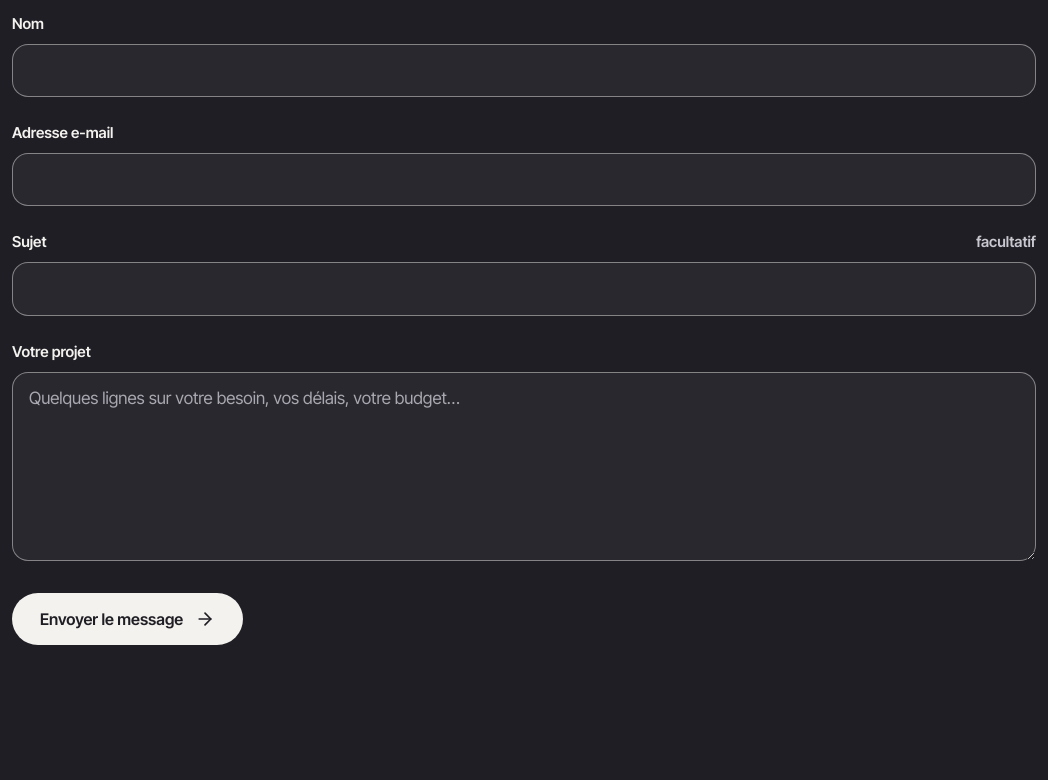
Test case: ContactForm › signale un échec d’envoi avec une solution de repli
The width and height of the screenshot is (1048, 780).
Type "Awa" into the field labelled "Nom" at (524, 71), box [12,44,1036,97]
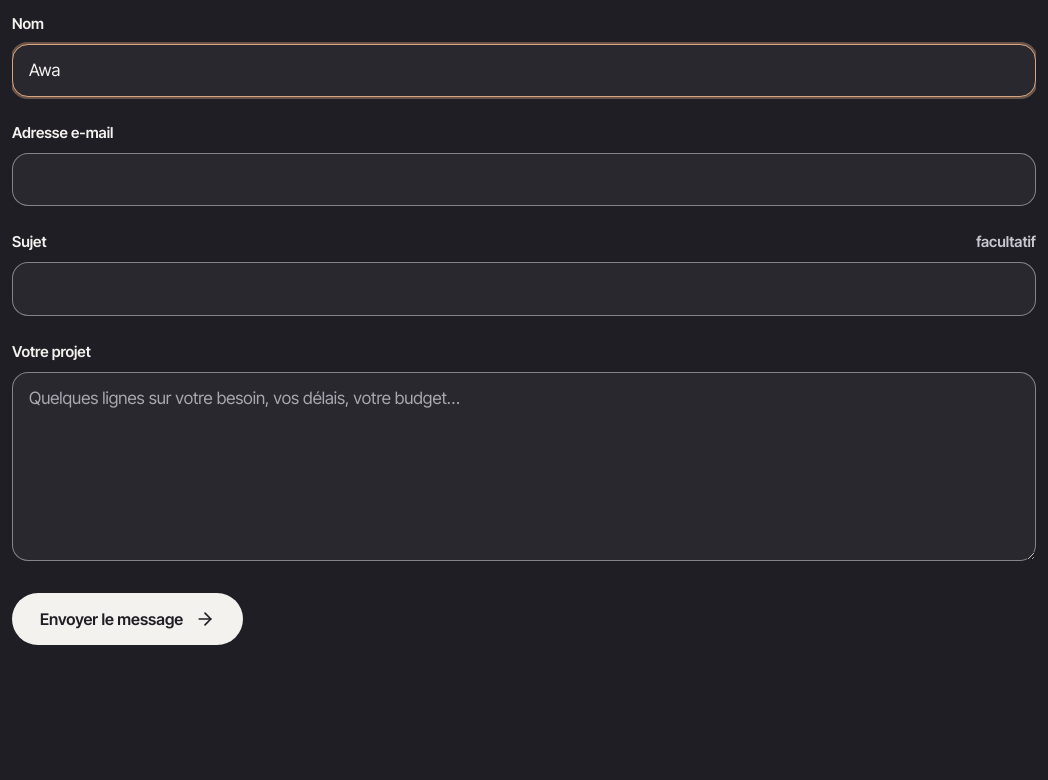
Type "awa@exemple.bj" into the field labelled "Adresse e-mail" at (524, 180), box [12,153,1036,206]
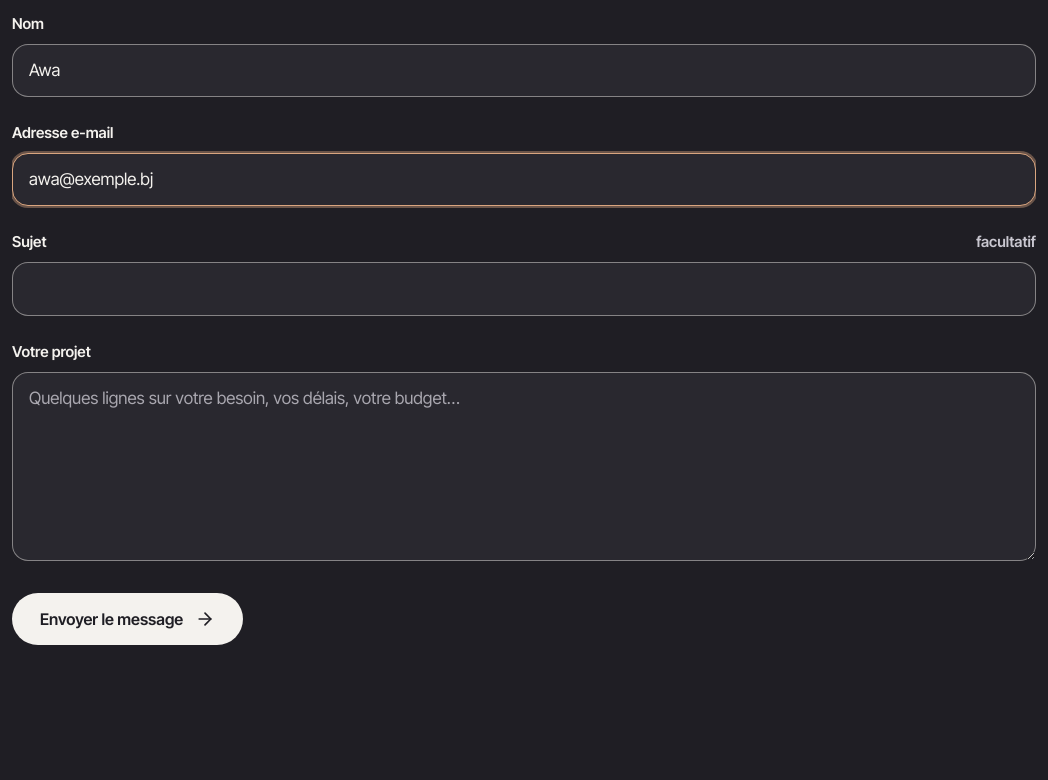
Type "Je souhaite créer un site vitrine." into the text box labelled "Votre projet" at (524, 466), box [12,372,1036,561]
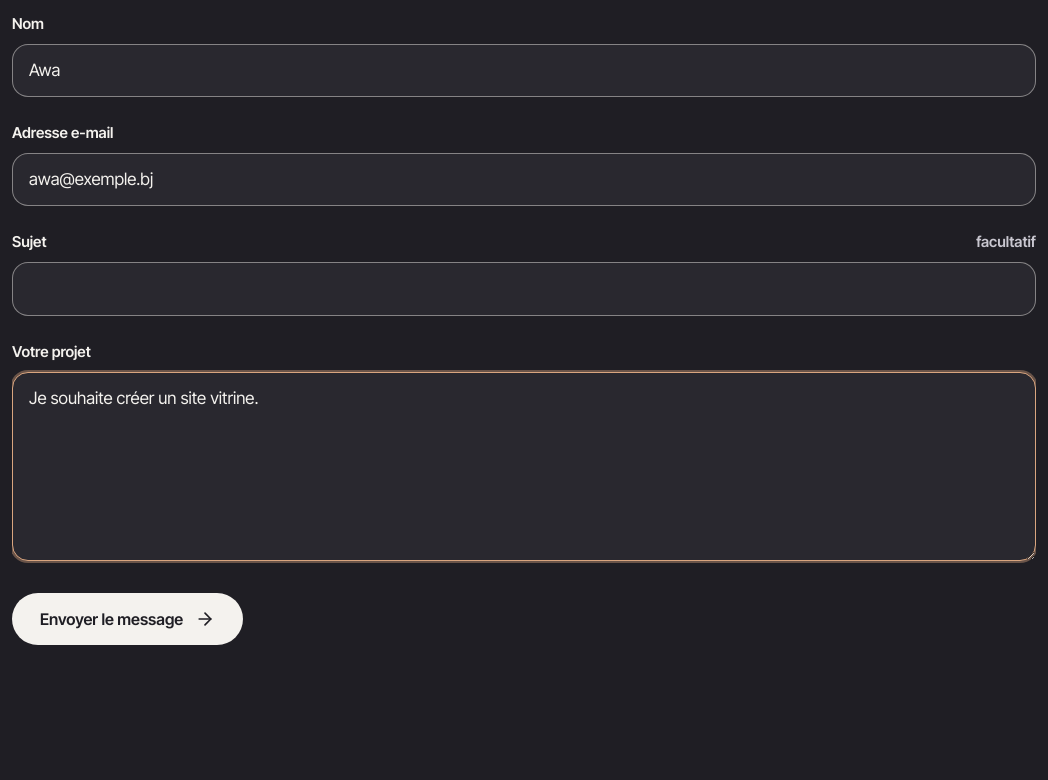
Click the button "Envoyer le message" at (128, 620), box [12,594,243,646]
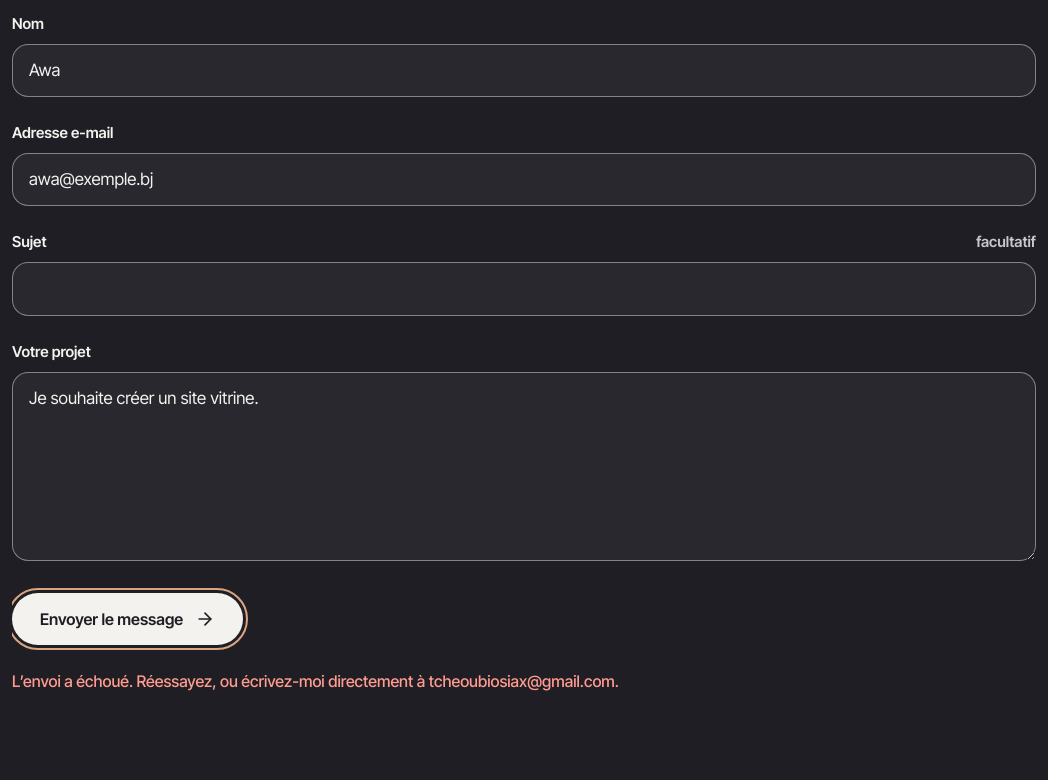
Now the message shows "tcheoubiosiax@gmail.com", box [429,672,615,692]
